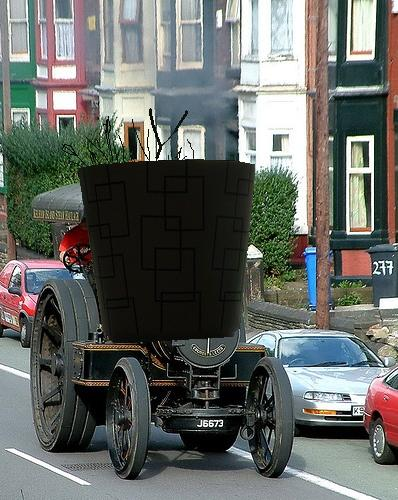tampered: (63, 109, 255, 343)
